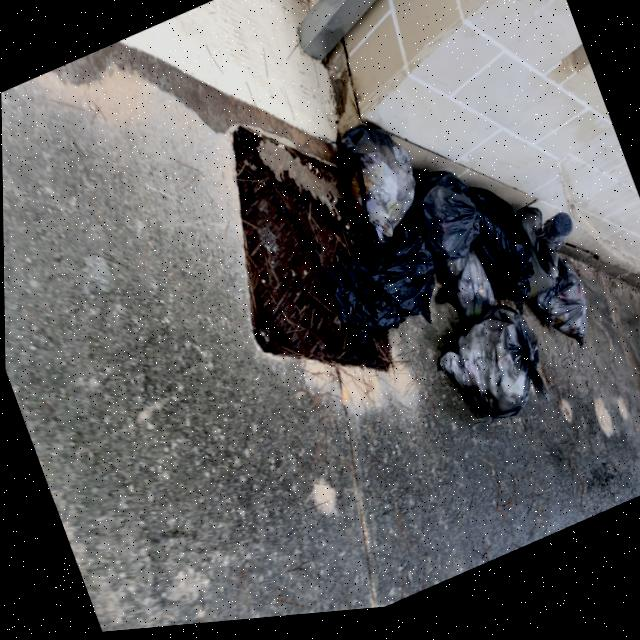Mixed Waste -Black Bag-: (426, 304, 556, 450), (319, 226, 450, 358), (322, 114, 432, 264), (456, 179, 546, 328), (388, 162, 488, 285), (520, 264, 600, 370), (432, 251, 501, 336)
Other: (506, 195, 588, 303)
